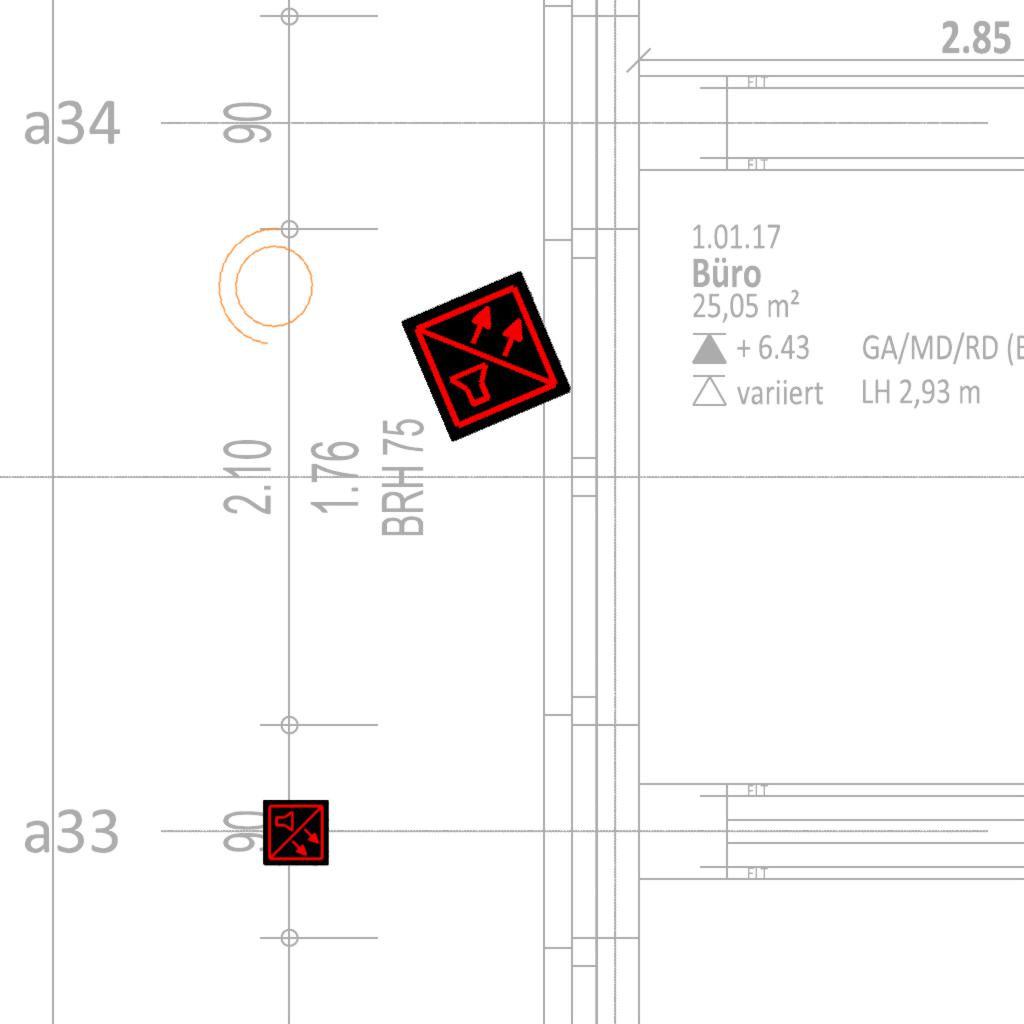OKW_Multisensormelder_(Kombination_optischer_Rauch-Kahlenmonoxid_Waerme-Melder): (400, 269, 574, 443), (263, 800, 329, 866)
Scheinwerfer_fuer_Alarmbeleuchtung: (206, 217, 332, 361)
